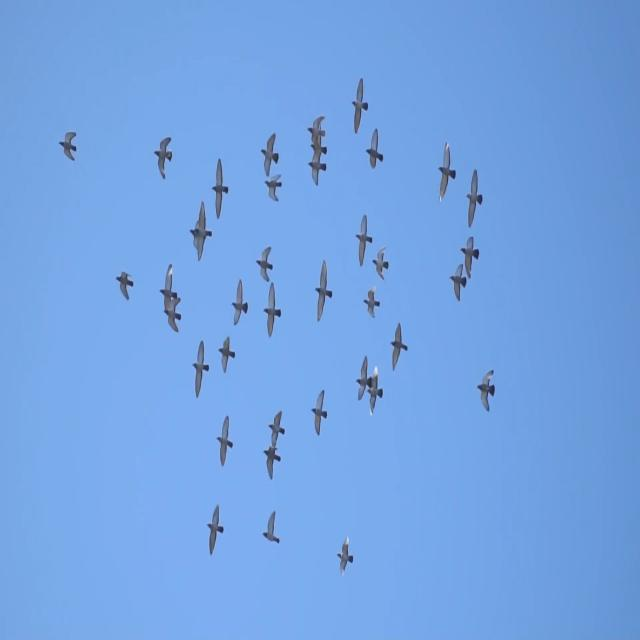bird: (314, 258, 333, 324), (191, 337, 210, 400), (194, 200, 213, 263), (438, 141, 457, 203), (465, 168, 484, 229), (263, 279, 282, 340), (211, 156, 229, 219), (349, 76, 368, 135), (215, 414, 235, 468), (354, 212, 372, 269), (309, 387, 329, 438), (152, 134, 173, 182), (476, 366, 497, 414), (157, 265, 176, 318), (390, 320, 409, 372), (459, 234, 480, 280), (260, 130, 280, 178), (230, 277, 249, 327), (366, 364, 384, 416), (364, 126, 385, 170), (335, 534, 356, 577), (207, 502, 224, 555), (355, 354, 373, 402), (448, 262, 468, 303), (217, 334, 236, 376), (262, 444, 282, 482), (261, 509, 281, 546), (268, 410, 286, 450), (59, 130, 80, 164), (114, 270, 136, 302), (256, 245, 274, 283), (372, 245, 390, 283), (165, 292, 181, 334), (363, 284, 381, 321), (307, 152, 326, 187), (305, 114, 329, 140), (264, 172, 282, 204), (306, 135, 329, 160), (189, 220, 200, 250)
